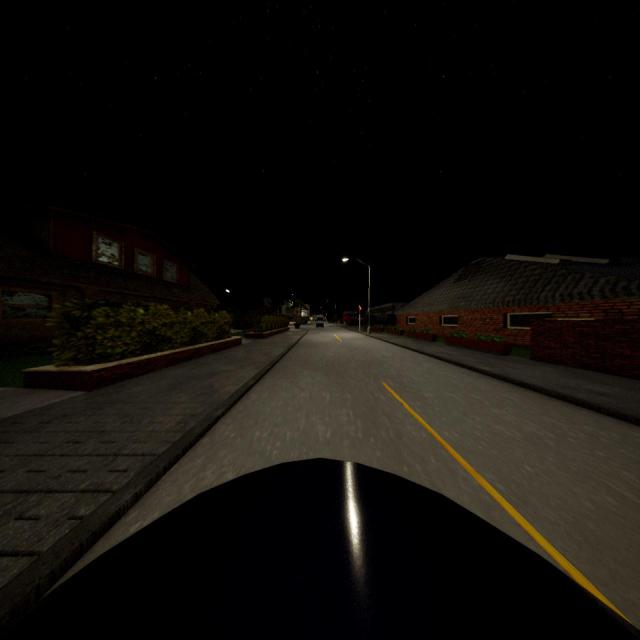Vehicle: (0, 457, 640, 640), (314, 314, 325, 328)
traffic_light: (359, 306, 362, 316)
